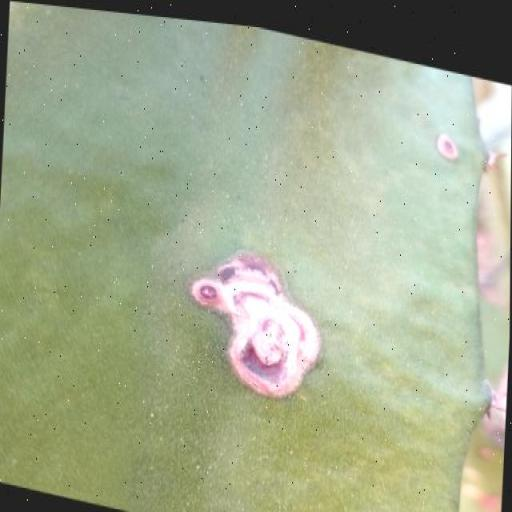stemcanker: (432, 128, 464, 168)
